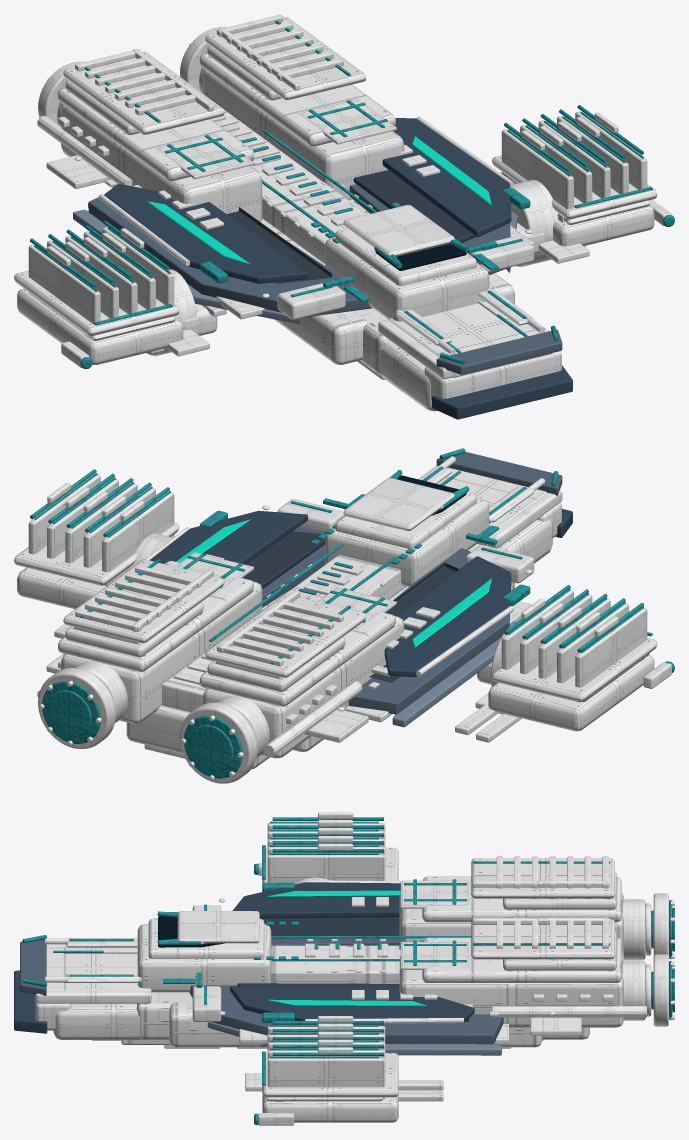
File: shielded.obj
3 renders of one model, top to bottom at view 1: azimuth 30°, elevation 25°; view 2: azimuth 150°, elevation 25°; view 3: azimuth 270°, elevation 25°, orthographic. The views are drawn at different scales.
Parts seen in each view (by area): view 1: V6_|_Escudo_alar_superpuesto_L, V6_|_Escudo_alar_superpuesto_R, Columna_propulsora_R, Columna_propulsora_L, Cabina_central_inferior, Espina_dorsal_blindada, Placa_hombro_acorazada_L, Cubierta_nacela_R, Cubierta_nacela_L, Modulo_escudo_lateral_L, V6_|_Blindaje_superior_motor_R, V6_|_Blindaje_superior_motor_L (+49 smaller); view 2: V6_|_Escudo_alar_superpuesto_L, Columna_propulsora_R, Cabina_central_inferior, Modulo_escudo_lateral_L, V6_|_Escudo_alar_superpuesto_R, Placa_hombro_acorazada_L, Columna_propulsora_L, V6_|_Blindaje_superior_motor_L, V6_|_Blindaje_superior_motor_R, Espina_dorsal_blindada, Cubierta_nacela_R, Cubierta_nacela_L (+63 smaller); view 3: Columna_propulsora_R, V6_|_Escudo_alar_superpuesto_R, V6_|_Escudo_alar_superpuesto_L, Cabina_central_inferior, Espina_dorsal_blindada, Placa_hombro_acorazada_R, V6_|_Blindaje_superior_motor_L, V6_|_Blindaje_superior_motor_R, Cubierta_nacela_R, Disipador_alto_R_4, Protector_frontal_superior, Disipador_alto_L_0 (+42 smaller).
Boxes of the visible parts, x1=… form: V6_|_Escudo_alar_superpuesto_L: x1=104, y1=184, x2=307, y2=283; V6_|_Escudo_alar_superpuesto_R: x1=382, y1=118, x2=511, y2=237; Columna_propulsora_R: x1=203, y1=69, x2=404, y2=200; Columna_propulsora_L: x1=61, y1=103, x2=262, y2=221; Cabina_central_inferior: x1=325, y1=237, x2=489, y2=321; Espina_dorsal_blindada: x1=215, y1=110, x2=367, y2=264; Placa_hombro_acorazada_L: x1=88, y1=197, x2=372, y2=316; Cubierta_nacela_R: x1=199, y1=53, x2=395, y2=146; Cubierta_nacela_L: x1=58, y1=88, x2=253, y2=181; Modulo_escudo_lateral_L: x1=17, y1=288, x2=183, y2=364; V6_|_Blindaje_superior_motor_R: x1=205, y1=16, x2=366, y2=100; V6_|_Blindaje_superior_motor_L: x1=63, y1=51, x2=224, y2=134; V6_|_Escudo_alar_superpuesto_L: x1=384, y1=556, x2=511, y2=677; Columna_propulsora_R: x1=61, y1=581, x2=262, y2=723; Cabina_central_inferior: x1=325, y1=498, x2=489, y2=586; Modulo_escudo_lateral_L: x1=488, y1=655, x2=654, y2=731; V6_|_Escudo_alar_superpuesto_R: x1=149, y1=510, x2=307, y2=564; Placa_hombro_acorazada_L: x1=348, y1=548, x2=511, y2=714; Columna_propulsora_L: x1=203, y1=616, x2=404, y2=758; V6_|_Blindaje_superior_motor_L: x1=205, y1=594, x2=366, y2=677; V6_|_Blindaje_superior_motor_R: x1=63, y1=559, x2=224, y2=643; Espina_dorsal_blindada: x1=162, y1=555, x2=406, y2=712; Cubierta_nacela_R: x1=58, y1=561, x2=253, y2=671; Cubierta_nacela_L: x1=199, y1=595, x2=395, y2=706; Columna_propulsora_R: x1=399, y1=953, x2=623, y2=1027; V6_|_Escudo_alar_superpuesto_R: x1=230, y1=986, x2=474, y2=1022; V6_|_Escudo_alar_superpuesto_L: x1=232, y1=882, x2=400, y2=918; Cabina_central_inferior: x1=137, y1=924, x2=271, y2=992; Espina_dorsal_blindada: x1=271, y1=945, x2=400, y2=983; Placa_hombro_acorazada_R: x1=189, y1=985, x2=503, y2=1044; V6_|_Blindaje_superior_motor_L: x1=471, y1=858, x2=614, y2=898; V6_|_Blindaje_superior_motor_R: x1=471, y1=919, x2=614, y2=959; Cubierta_nacela_R: x1=422, y1=937, x2=621, y2=982; Disipador_alto_R_4: x1=267, y1=1057, x2=385, y2=1098; Protector_frontal_superior: x1=46, y1=947, x2=151, y2=992; Disipador_alto_L_0: x1=267, y1=854, x2=385, y2=883.
Bounding box in the file's own units: 11.97 × 2.83 × 13.12.
